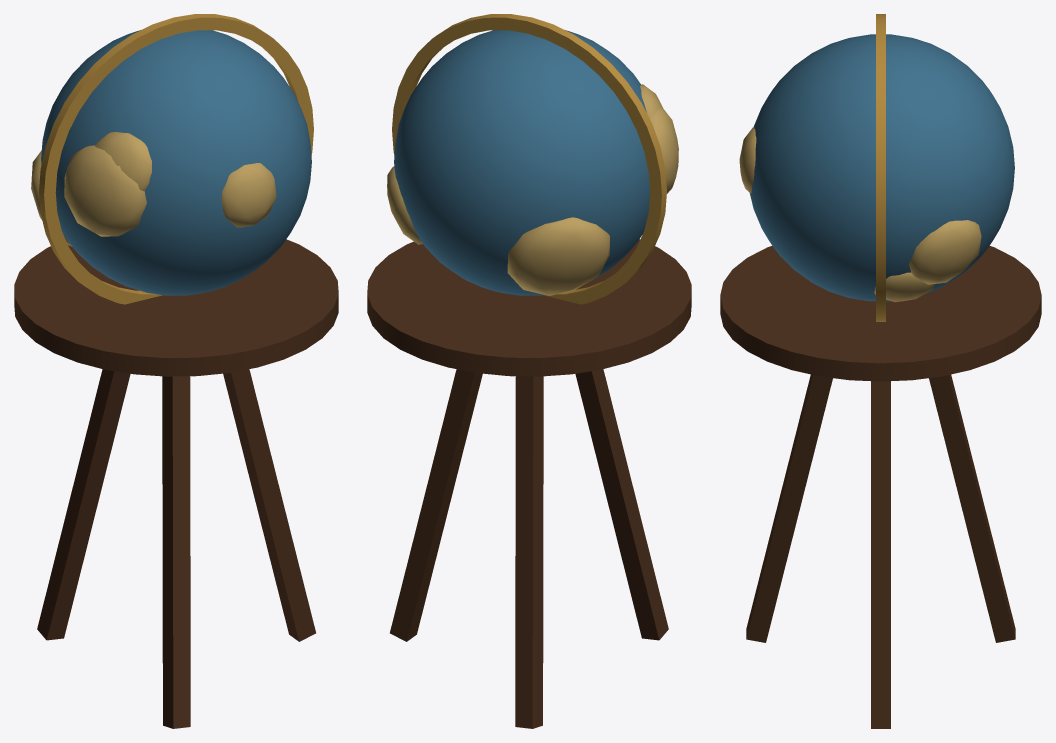
Rendered from SM_80s_Globe.glb.
3 views of the same model, side by side, from view 1: azimuth 30°, elevation 25°; view 2: azimuth 150°, elevation 25°; view 3: azimuth 270°, elevation 25° (orthographic).
Parts seen in each view (by area): view 1: SM_80s_Globe; view 2: SM_80s_Globe; view 3: SM_80s_Globe.
Part boxes in pixels (x1,y1,x2,y2): SM_80s_Globe: (14,14,338,728); SM_80s_Globe: (367,14,691,728); SM_80s_Globe: (720,14,1041,728).
Bounding box in the file's own units: 0.6336 × 1.39 × 0.6336.
